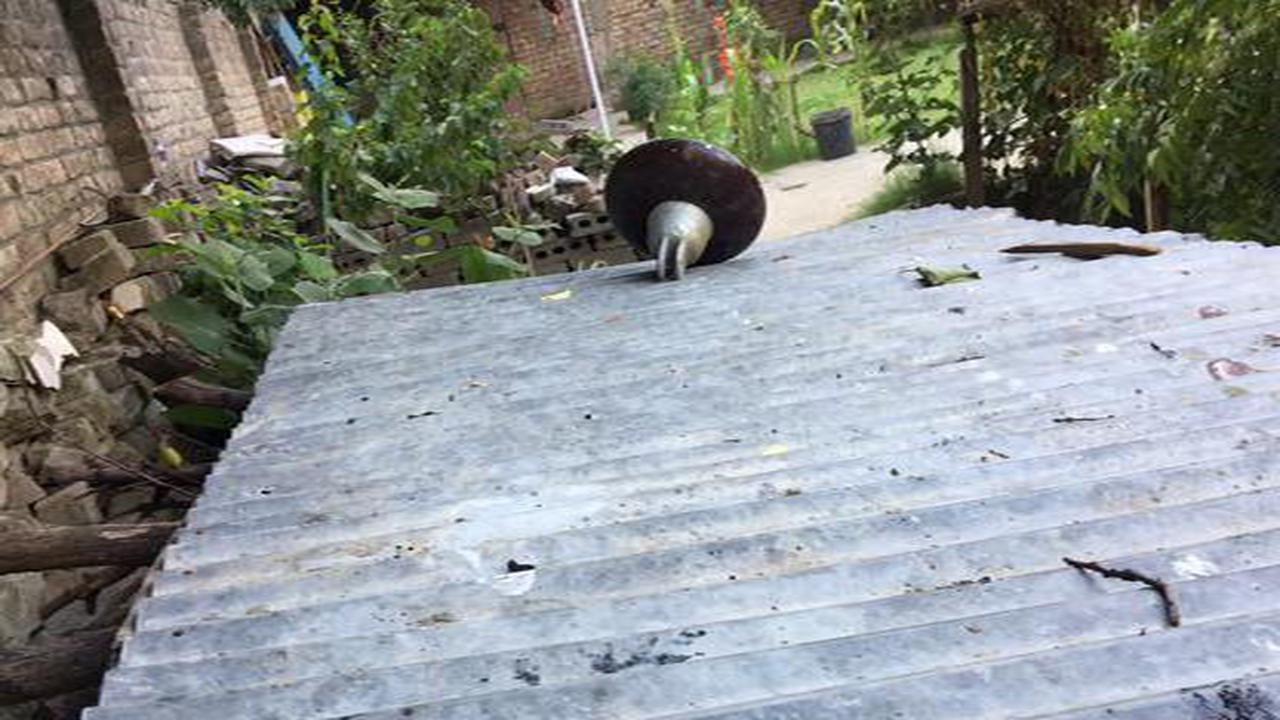insulator_disc: (602, 134, 769, 289)
